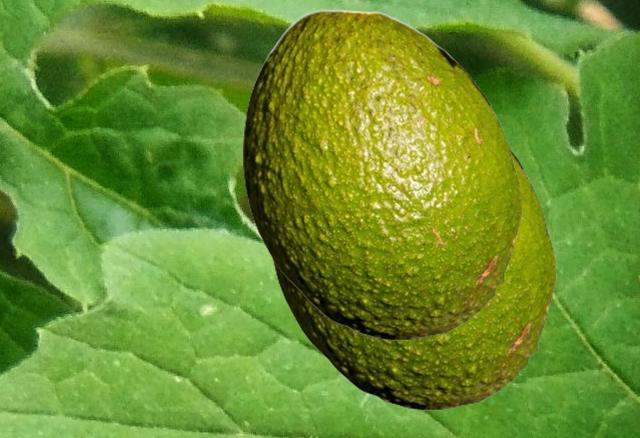avocado: (242, 9, 521, 339), (269, 146, 555, 409)
